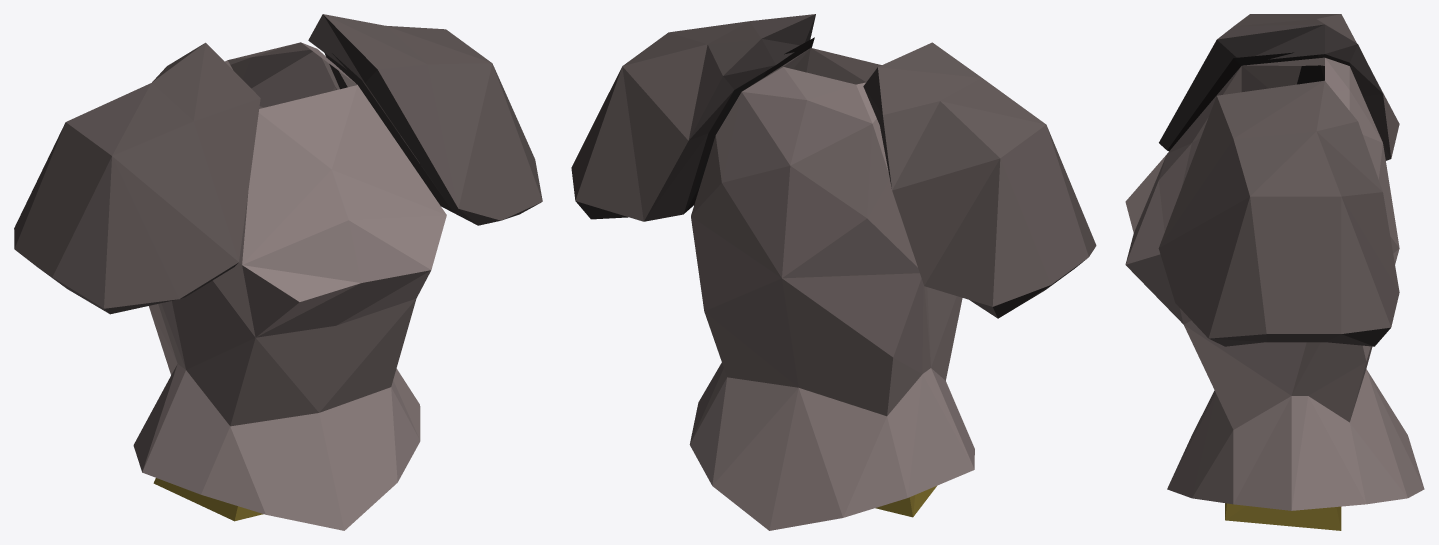
File: model_468_obj_wear.obj
3 renders of one model, left to right at view 1: azimuth 30°, elevation 25°; view 2: azimuth 150°, elevation 25°; view 3: azimuth 270°, elevation 25°, orthographic.
Visible parts, largest first — view 1: 468; view 2: 468; view 3: 468.
Boxes of the visible parts, x1,y1,x2,y2 form: 468: (14, 14, 542, 530); 468: (571, 14, 1096, 530); 468: (1125, 14, 1424, 530).
Bounding box in the file's own units: 66 × 58 × 36.
